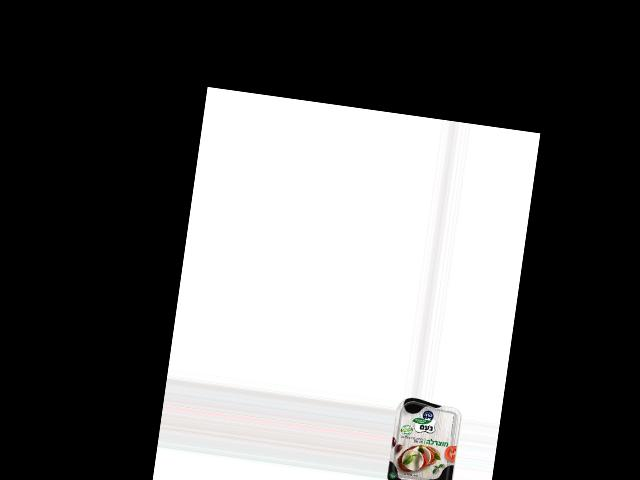cheese: (386, 397, 463, 480)
